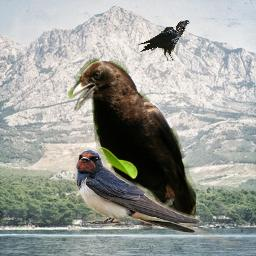Crow: (68, 57, 196, 230), (137, 20, 190, 61)
Swallow: (74, 147, 239, 246)
